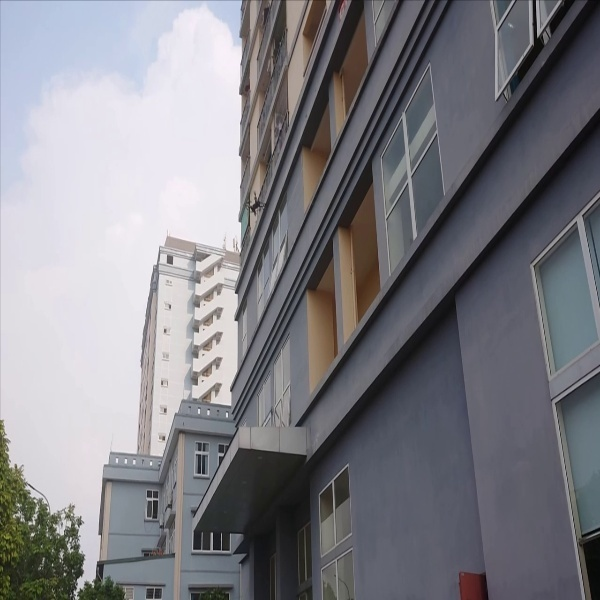drone: (244, 190, 266, 220)
